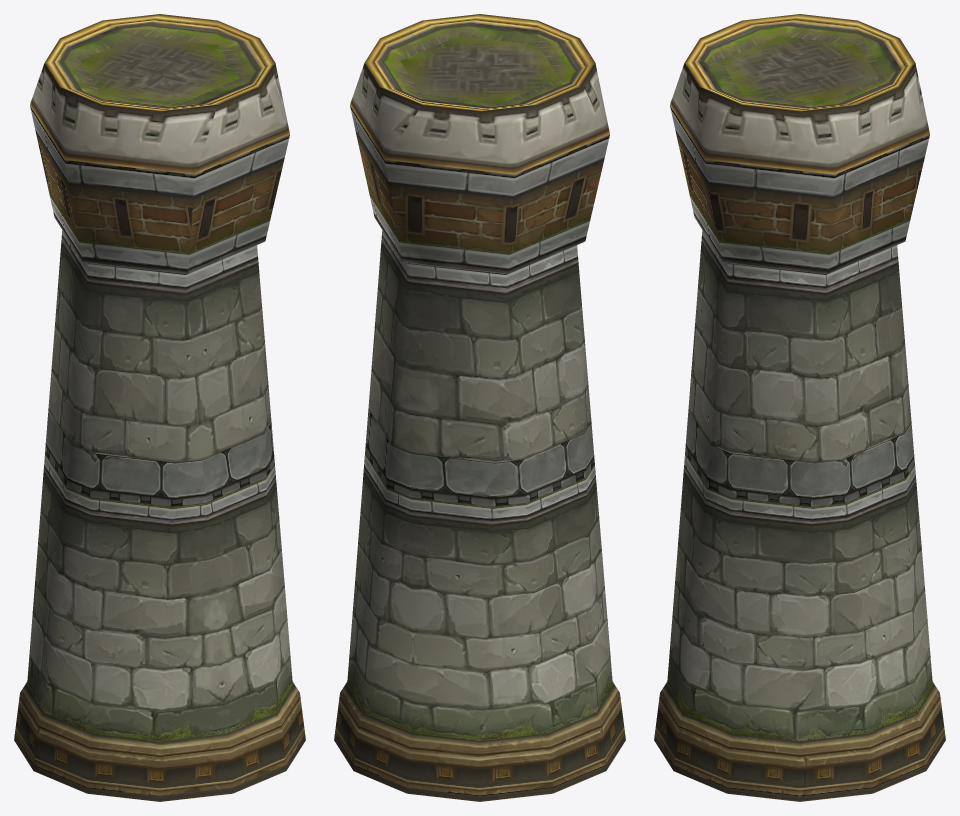
Rendered from DN_mcgate03.FBX.
The picture shows the model from 3 angles, left to right: view 1: azimuth 30°, elevation 25°; view 2: azimuth 150°, elevation 25°; view 3: azimuth 270°, elevation 25°; orthographic projection.
Visible parts, largest first — view 1: DN_mcgate03; view 2: DN_mcgate03; view 3: DN_mcgate03.
Boxes of the visible parts, left/top/right/bottom form: DN_mcgate03: left=14, top=14, right=305, bottom=801; DN_mcgate03: left=334, top=14, right=625, bottom=801; DN_mcgate03: left=654, top=14, right=945, bottom=801.
Bounding box in the file's own units: 926 × 2370 × 926.
1 material, 1 textured.
